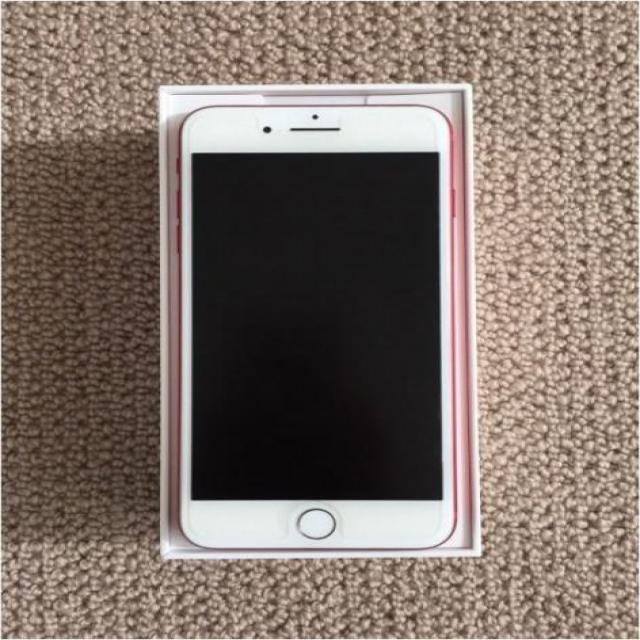phone good: (174, 97, 471, 546)
